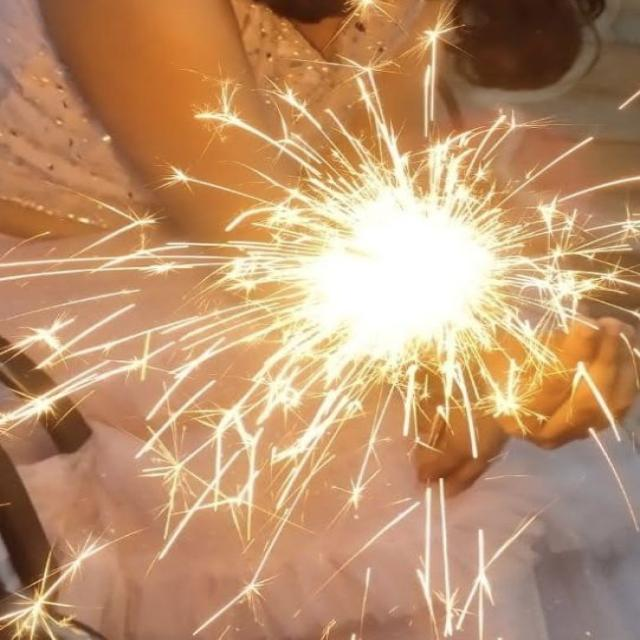fire: (300, 184, 494, 376)
